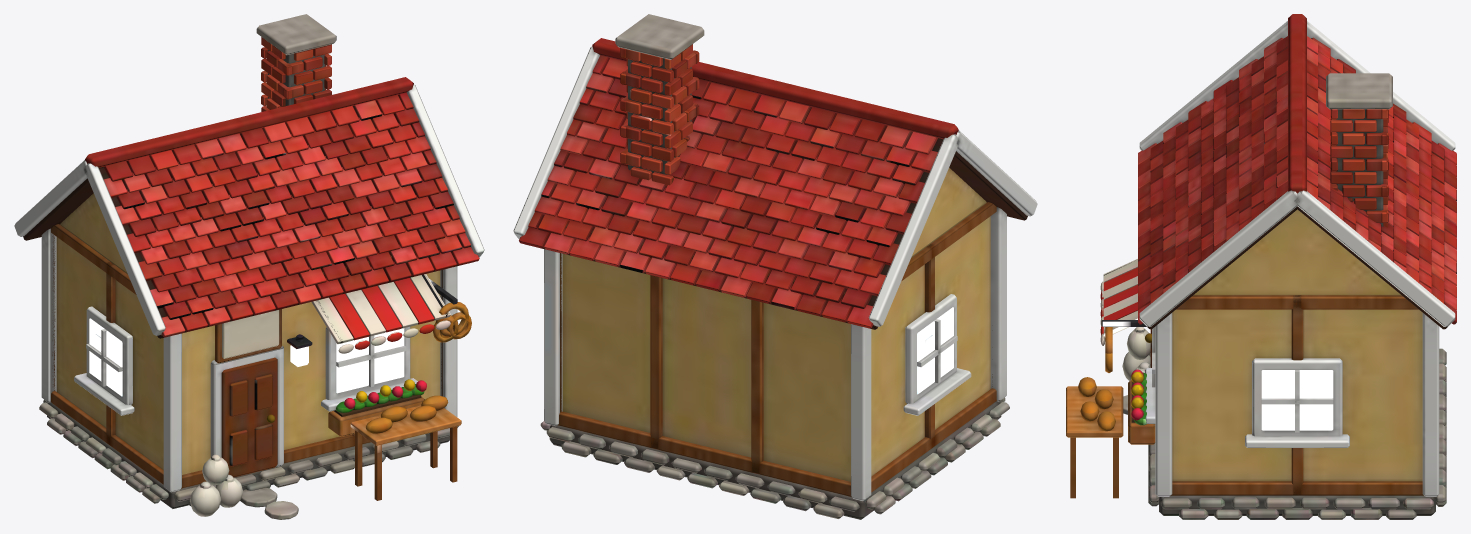
The model's file is bakery.glb.
3 renders of one model, left to right at view 1: azimuth 30°, elevation 25°; view 2: azimuth 150°, elevation 25°; view 3: azimuth 270°, elevation 25°, orthographic. The views are drawn at different scales.
Visible parts, largest first — view 1: bakery; view 2: bakery; view 3: bakery.
Boxes of the visible parts, box(x1,y1,x2,y2) form: bakery: box(14, 14, 484, 519); bakery: box(513, 14, 1037, 519); bakery: box(1066, 14, 1456, 519).
Bounding box in the file's own units: 1.74 × 1.85 × 1.64.
Materials: 1 (1 with a texture image).
